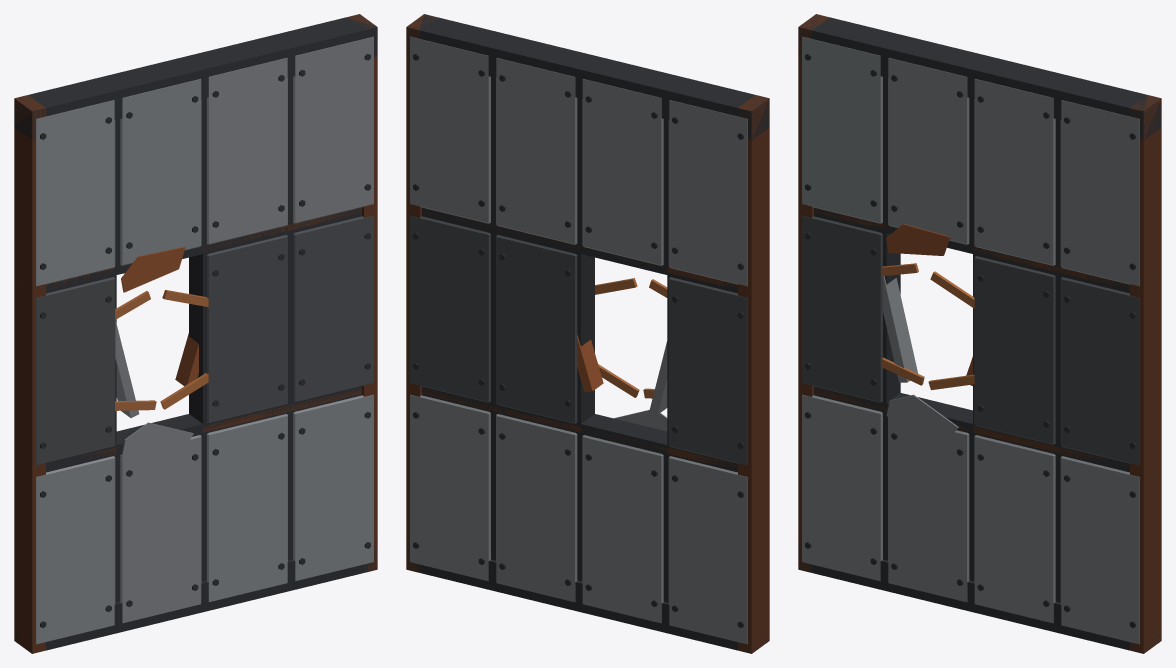
Rendered from piece_wall_steel_critical.fbx.
3 renders of one model, left to right at view 1: azimuth 30°, elevation 25°; view 2: azimuth 150°, elevation 25°; view 3: azimuth 330°, elevation 25°, orthographic.
Parts seen in each view (by area): view 1: piece_wall_steel_critical; view 2: piece_wall_steel_critical; view 3: piece_wall_steel_critical.
Boxes of the visible parts, x1,y1,x2,y2 form: piece_wall_steel_critical: (14,14,377,653); piece_wall_steel_critical: (406,14,769,653); piece_wall_steel_critical: (798,14,1161,653).
Size of the model in its own units: 2 by 3 by 0.2.
